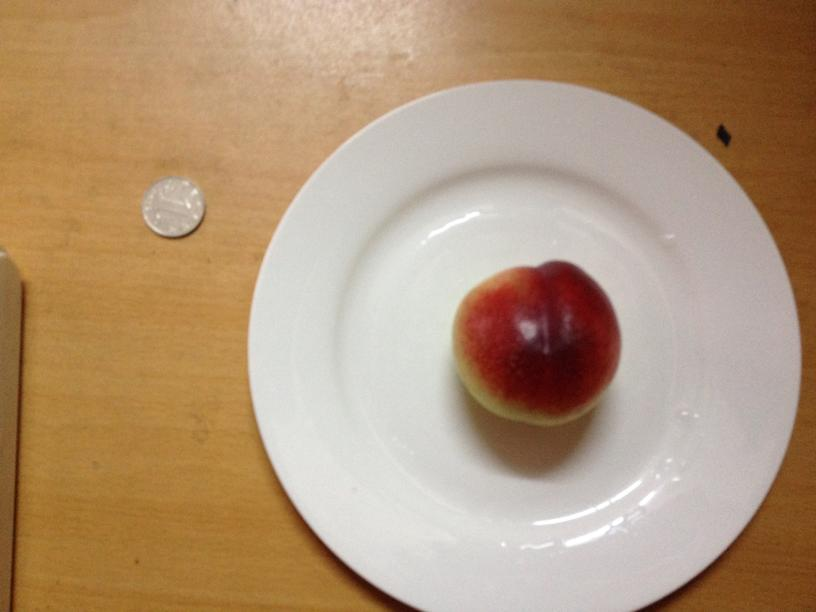coin: (137, 176, 206, 240)
peach: (444, 260, 624, 428)
